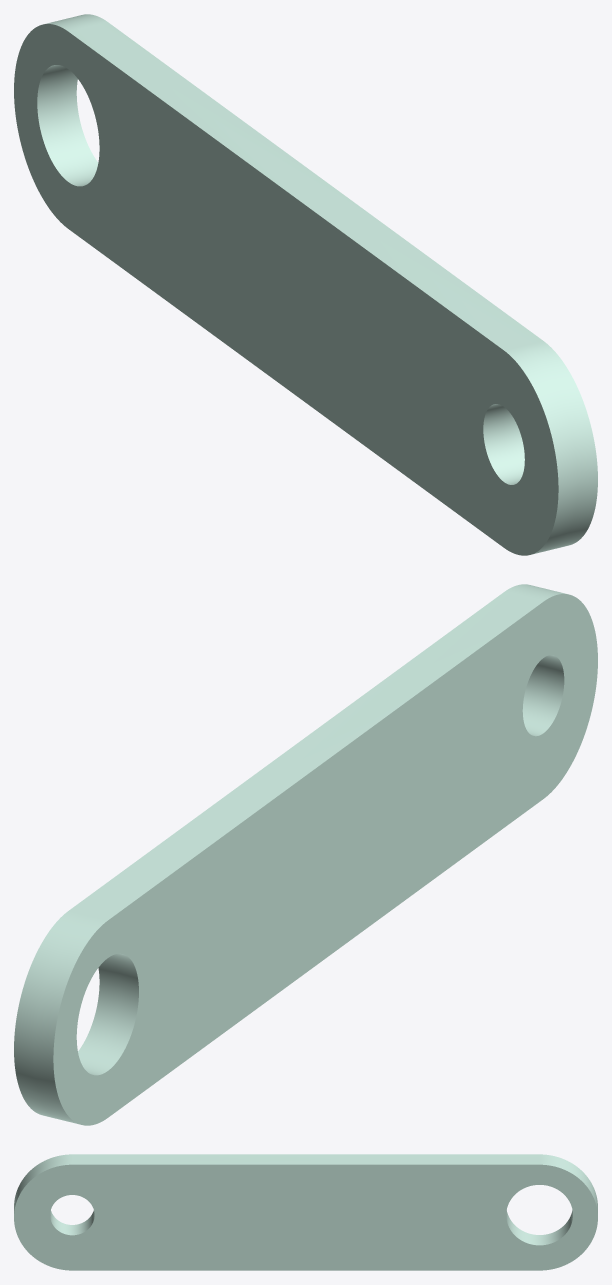
3 renders of one model, top to bottom at view 1: azimuth 30°, elevation 25°; view 2: azimuth 150°, elevation 25°; view 3: azimuth 270°, elevation 25°, orthographic. The views are drawn at different scales.
Parts seen in each view (by area): view 1: Renderer Node; view 2: Renderer Node; view 3: Renderer Node.
Boxes of the visible parts, x1,y1,x2,y2 form: Renderer Node: (14,14,597,555); Renderer Node: (14,584,597,1125); Renderer Node: (14,1154,597,1270).
Size of the model in its own units: 0.0625 by 0.2988 by 1.49.
